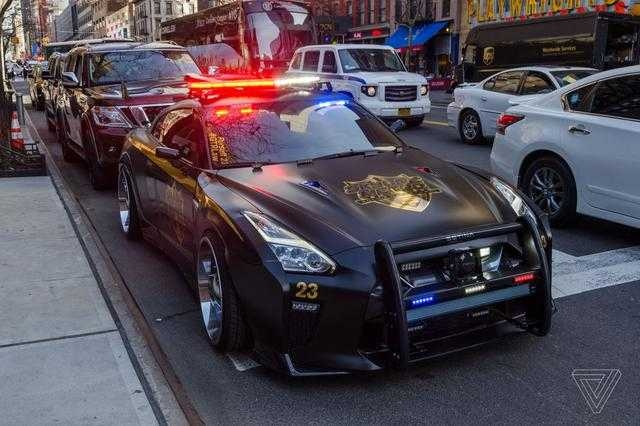Police Car: (89, 55, 546, 387)
